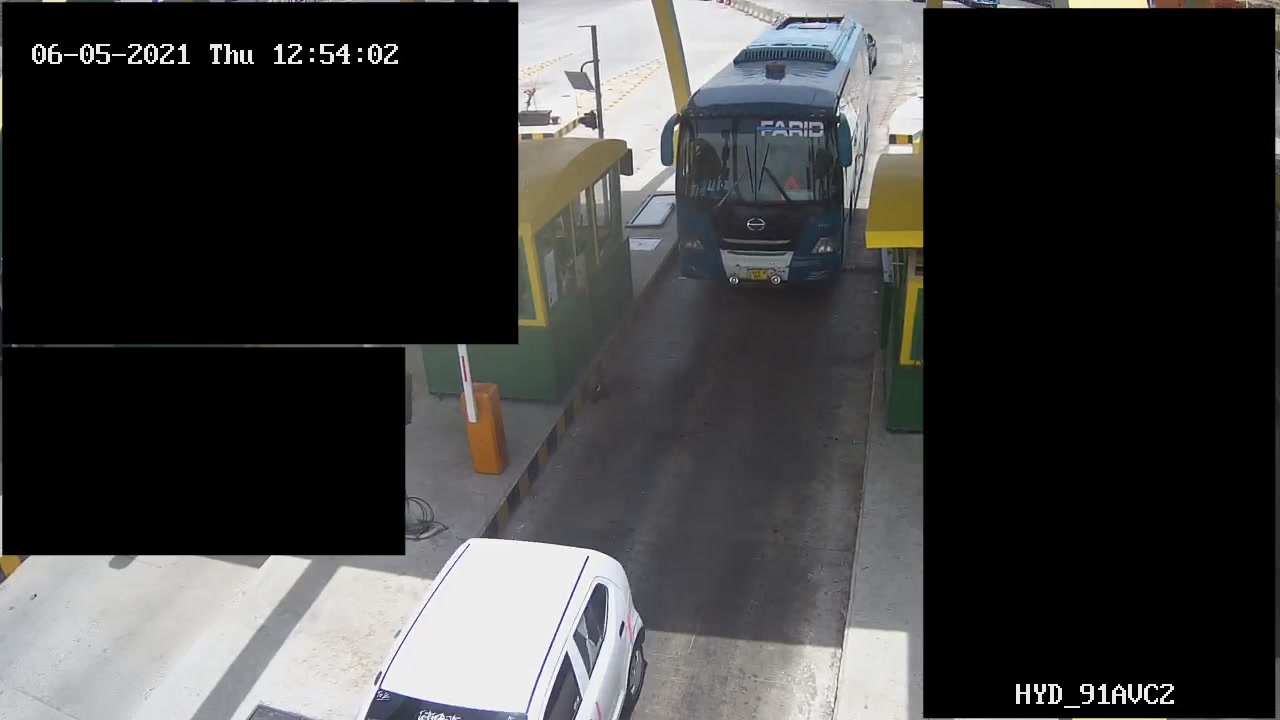F4: (665, 10, 882, 294)
